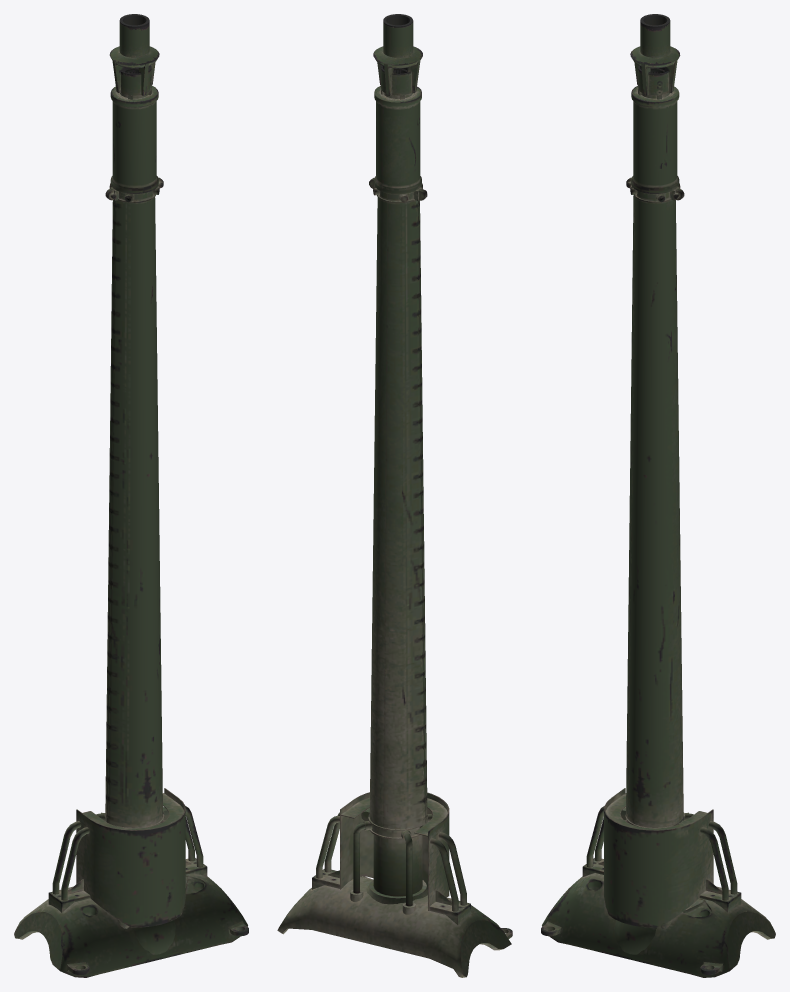
The model's file is Gun_02.glb.
3 views of the same model, side by side, from view 1: azimuth 30°, elevation 25°; view 2: azimuth 150°, elevation 25°; view 3: azimuth 330°, elevation 25° (orthographic).
Parts seen in each view (by area): view 1: set_0_group_0; view 2: set_0_group_0; view 3: set_0_group_0.
Part boxes in pixels (<box>): set_0_group_0: <box>14,14,248,977</box>; set_0_group_0: <box>277,14,512,977</box>; set_0_group_0: <box>541,14,775,977</box>.
Bounding box in the file's own units: 1.32 × 6.2 × 0.7054.
1 material, 1 textured.
